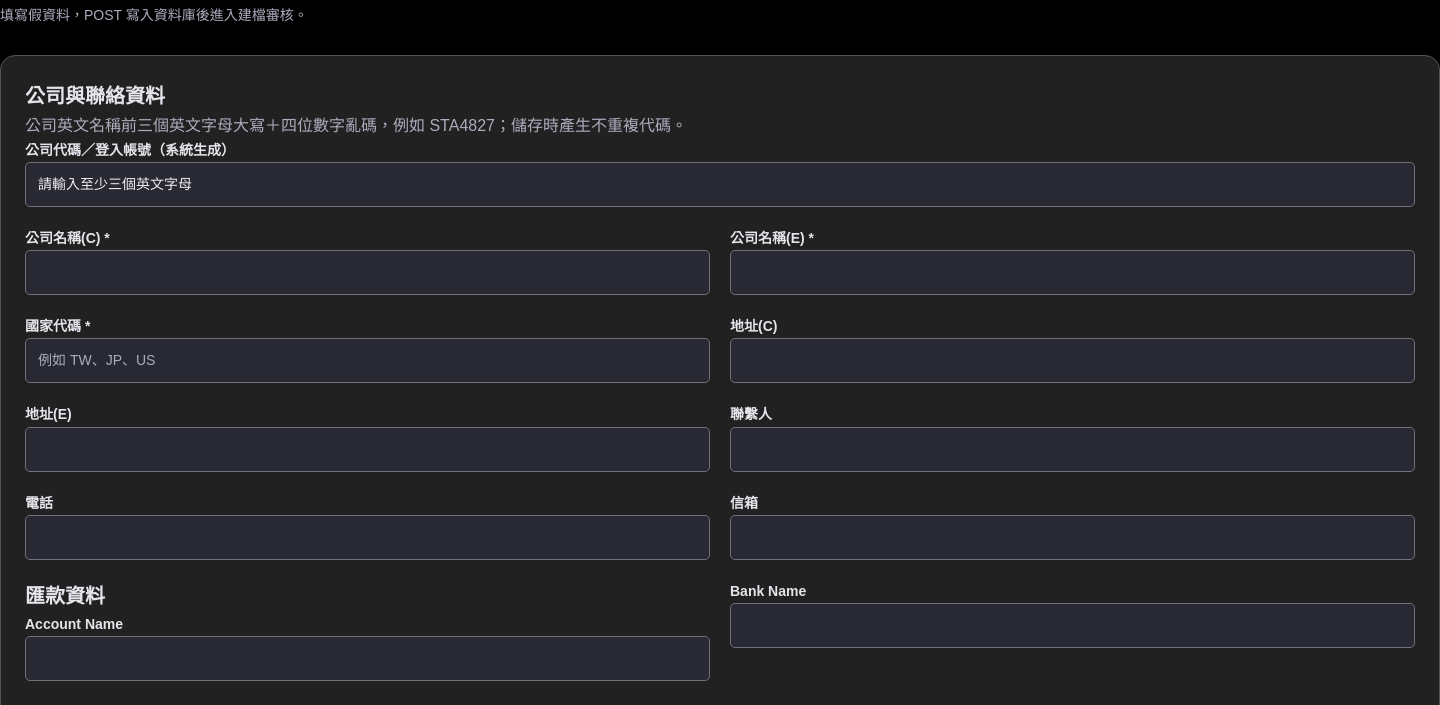
Test: 建檔表單等待POST才顯示生成帳號
This screenshot has width=1440, height=705.
Step 1. Type "測試公司" into the field labelled "公司名稱(C) *" → (368, 273), box [25,250,710,295]
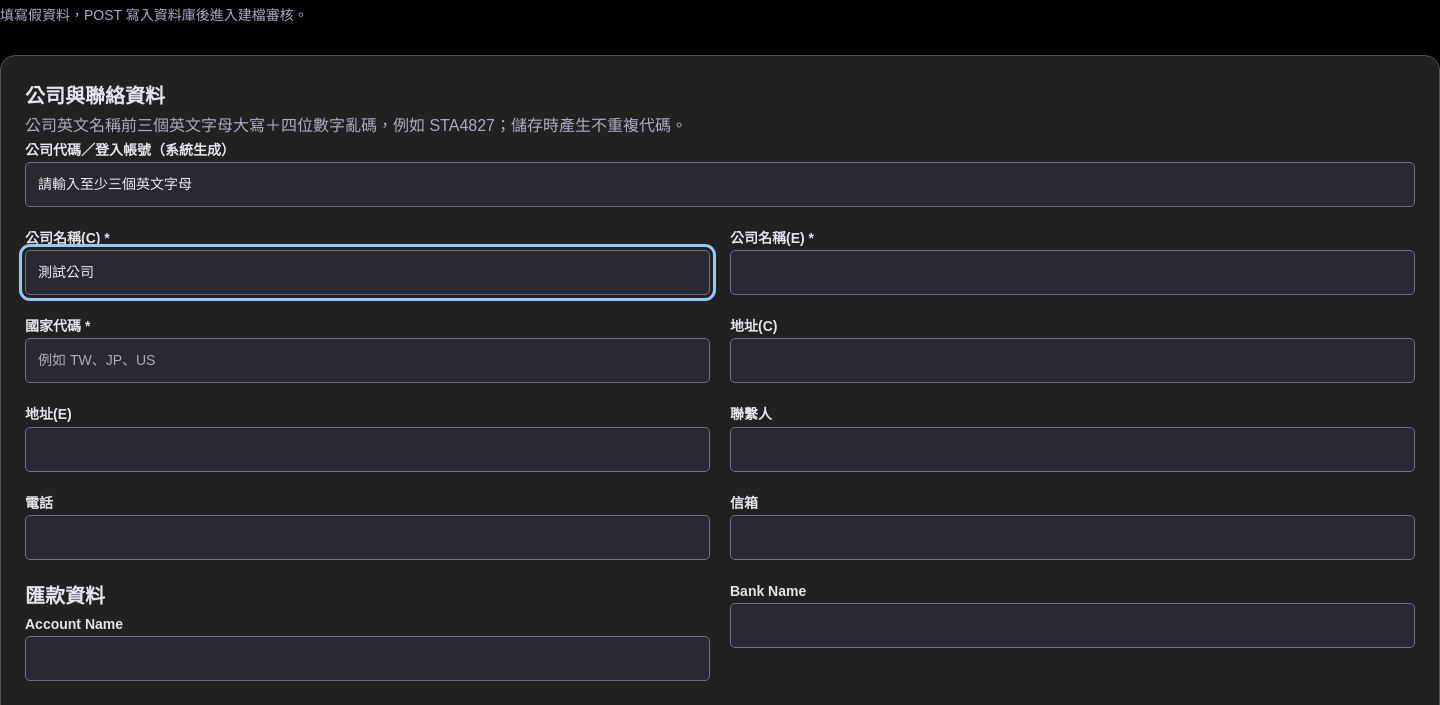
Step 2. Type "Test Vendor Demo" into the field labelled "公司名稱(E) *" → (1072, 273), box [730,250,1415,295]
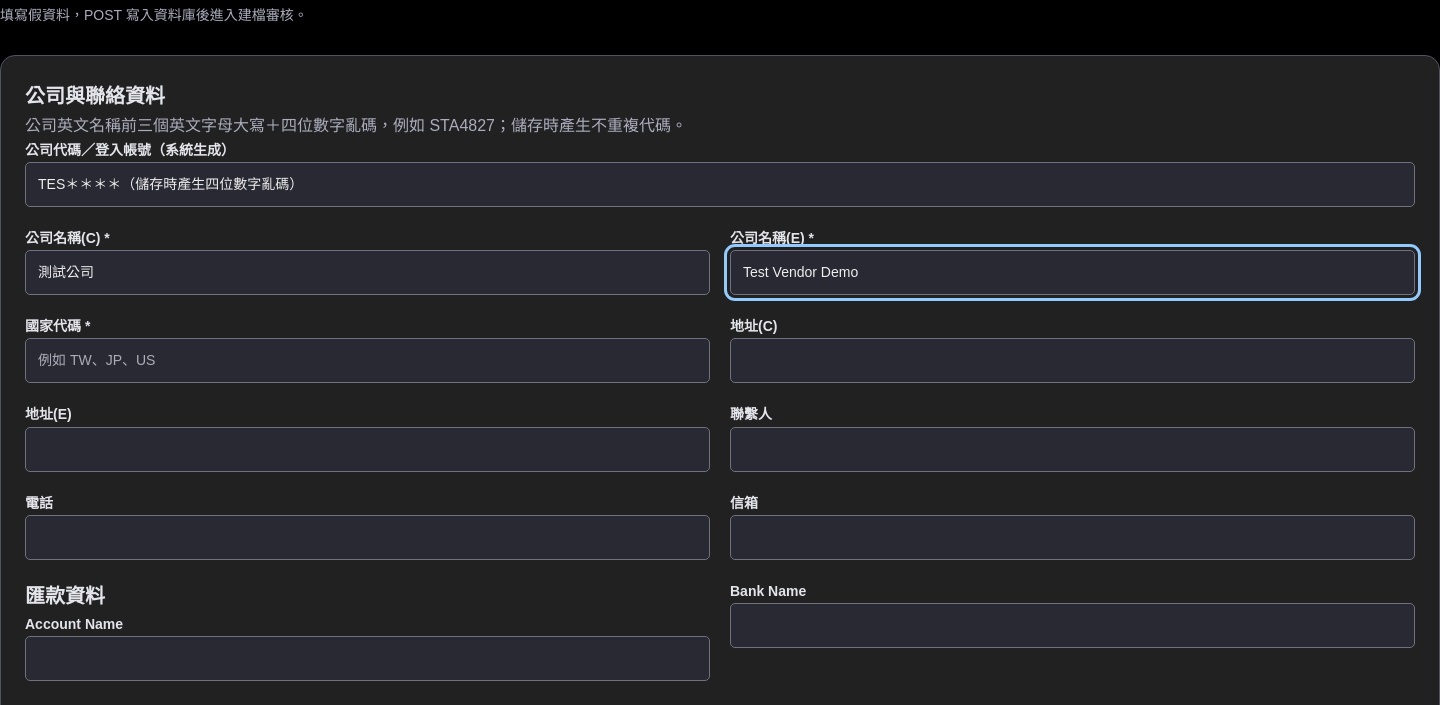
Step 3. Type "TW" into the field labelled "國家代碼 *" → (368, 361), box [25,338,710,384]
(page scrolled)
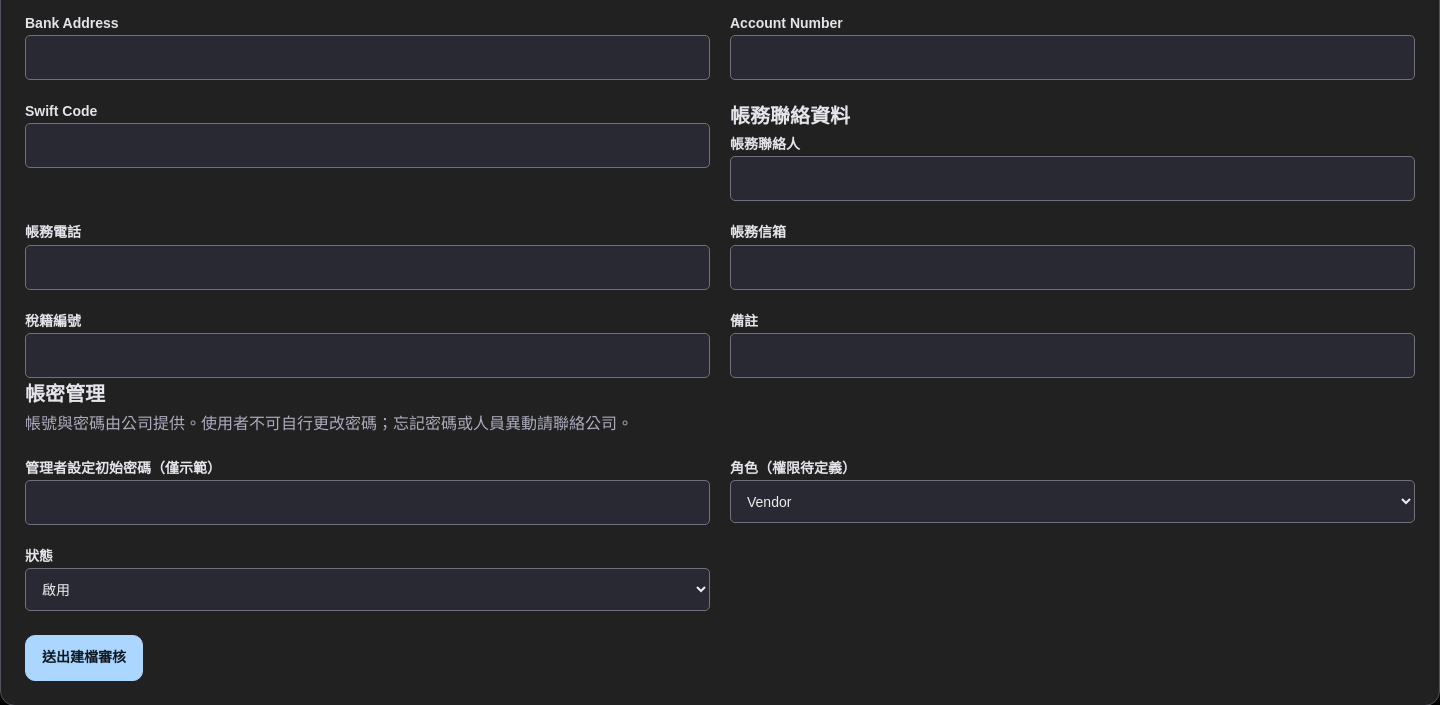
Step 4. Type "Demo1234!" into the password field labelled "管理者設定初始密碼（僅示範）" → (368, 503), box [25,480,710,525]
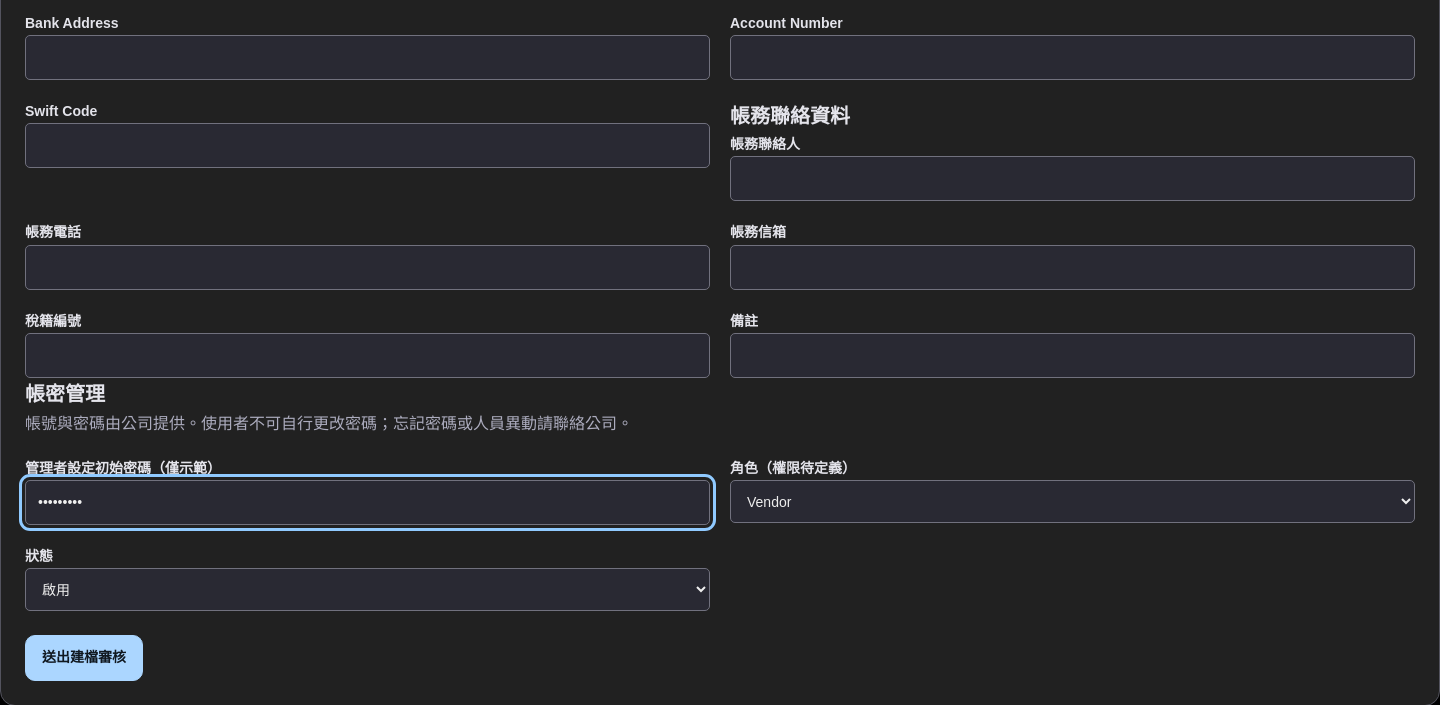
Step 5. Click the button "送出建檔審核" → (84, 658), box [25,636,143,681]
(page scrolled)
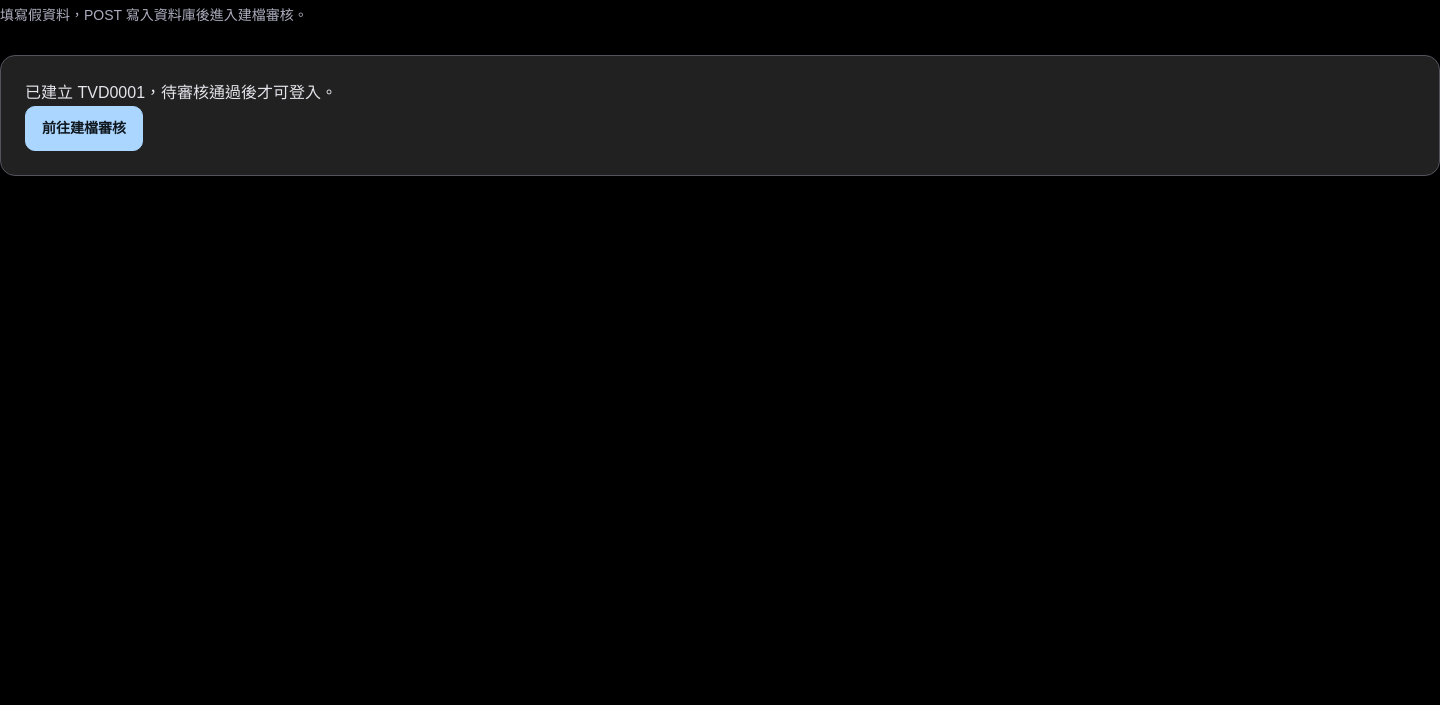
Now the message shows "TVD0001", box [78,84,145,100]
